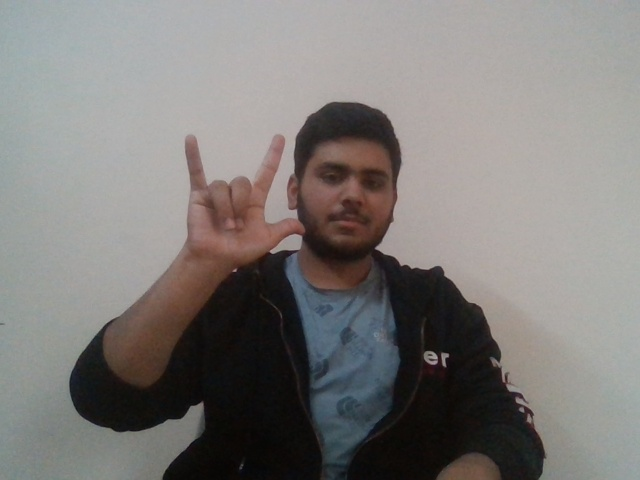IloveYou: (170, 126, 302, 251)
